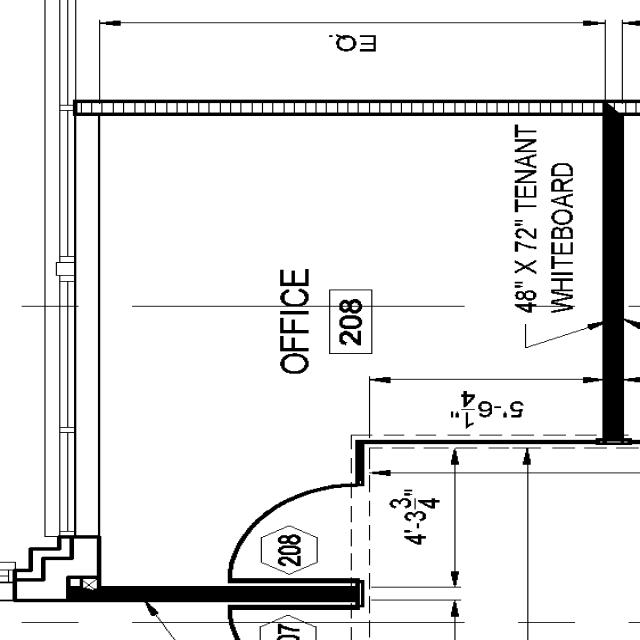Doors: (222, 478, 380, 588)
